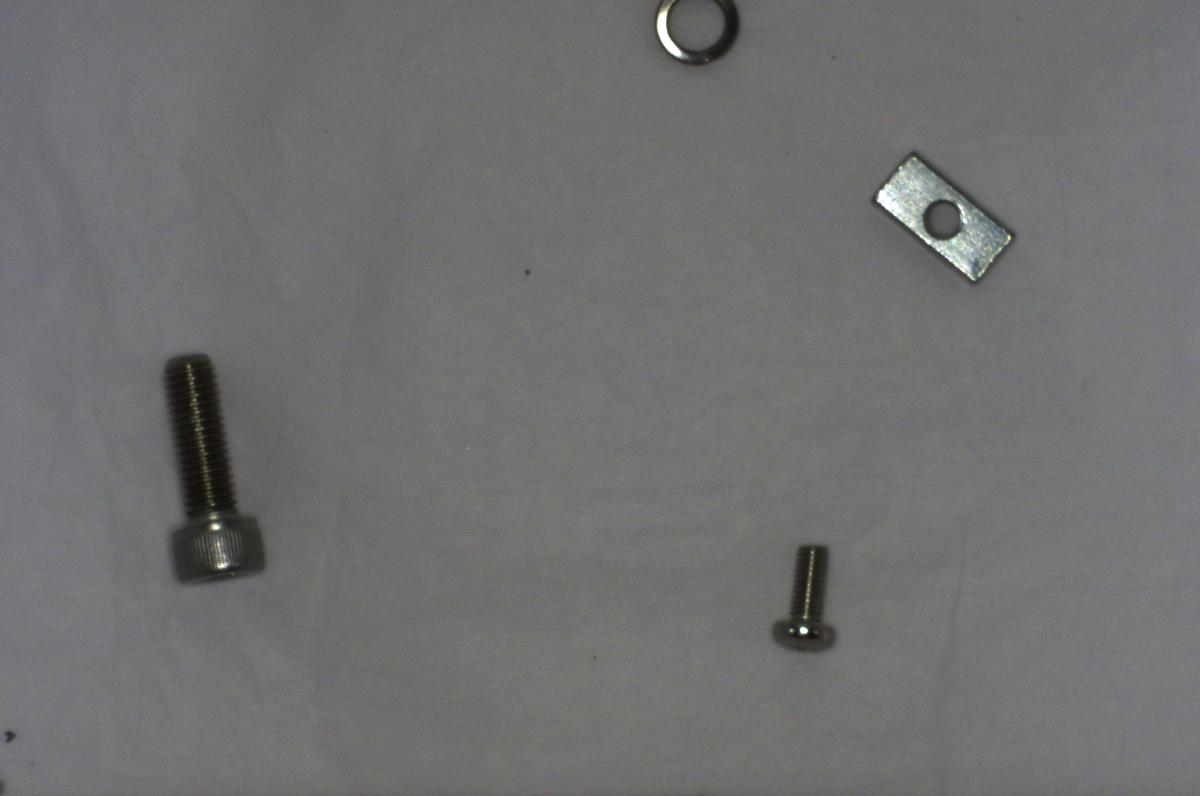Hexagon screw: (150, 345, 273, 594)
Rectangular nut: (867, 147, 1017, 285)
Round head screw: (762, 536, 847, 653)
Spring washer: (639, 3, 758, 68)
